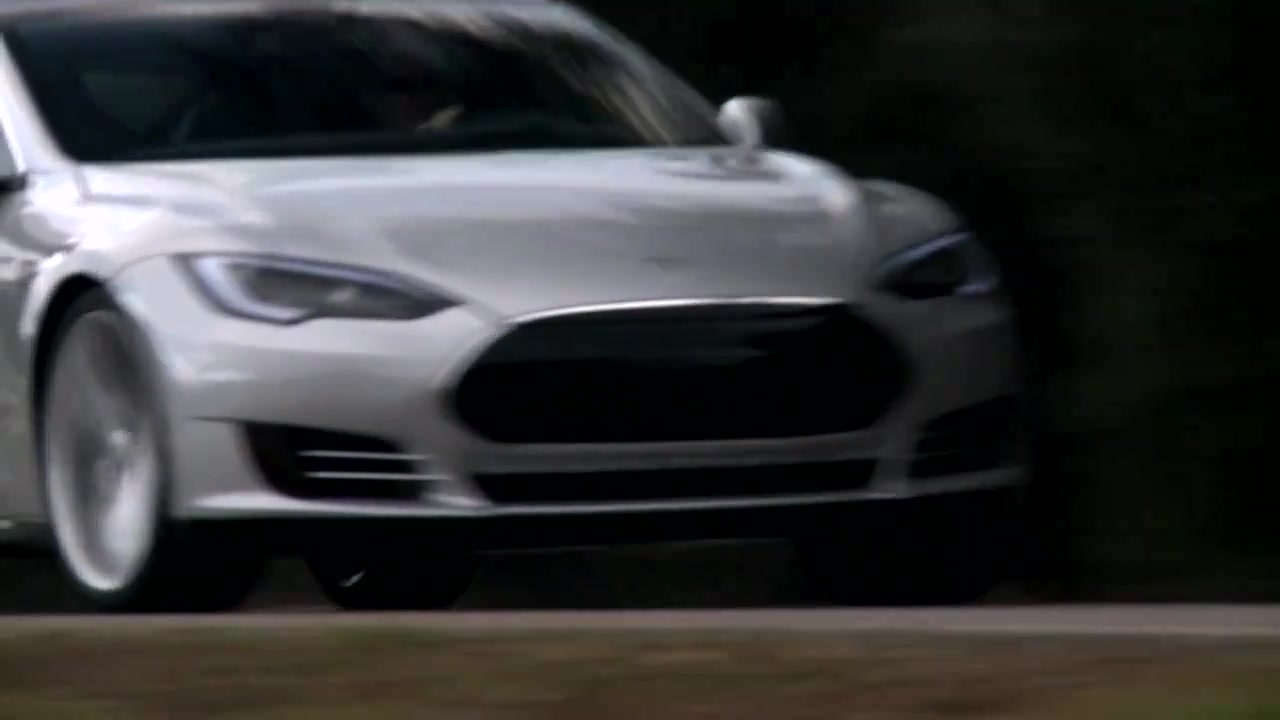car: (1, 1, 1040, 620)
